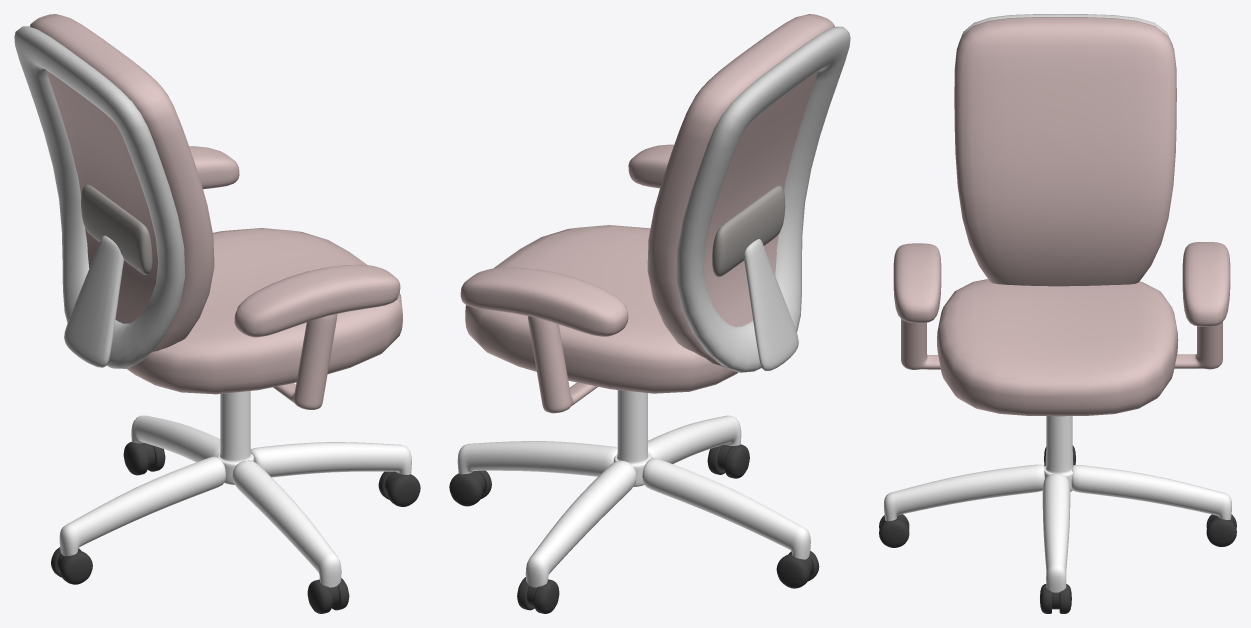
Rendered from chair1.glb.
3 renders of one model, left to right at view 1: azimuth 30°, elevation 25°; view 2: azimuth 150°, elevation 25°; view 3: azimuth 270°, elevation 25°, orthographic. The views are drawn at different scales.
Visible parts, largest first — view 1: chair; view 2: chair; view 3: chair.
Boxes of the visible parts, x1,y1,x2,y2 form: chair: (14, 14, 420, 613); chair: (449, 14, 850, 613); chair: (879, 14, 1236, 613).
Size of the model in its own units: 0.6159 by 0.8741 by 0.6102.
